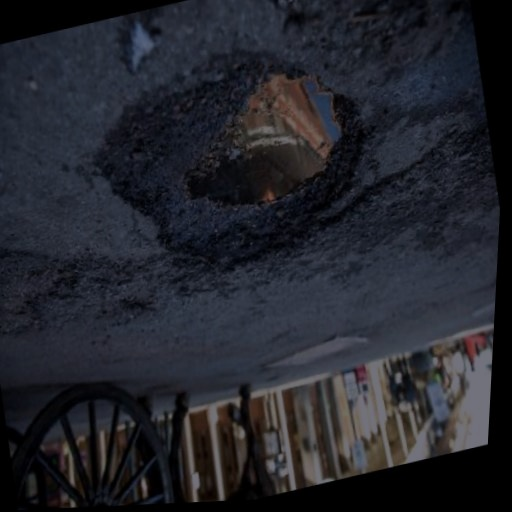pothole: (67, 24, 396, 309)
